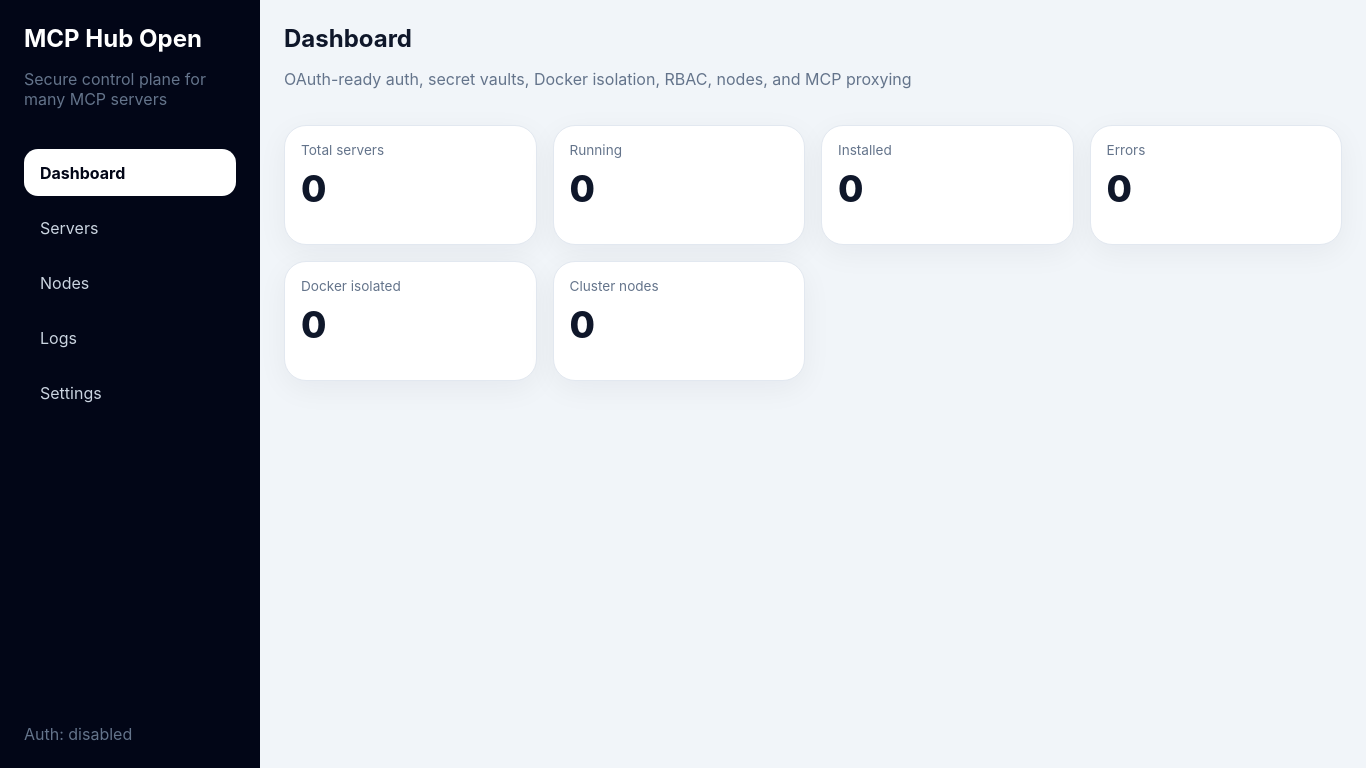
Test case: App component navigation › navigates to Logs page
This screenshot has width=1366, height=768.
Expected: the navigation bar is shown, [24,149,236,417]
Click the link "Logs".
click(58, 338)  # box [40,328,77,348]
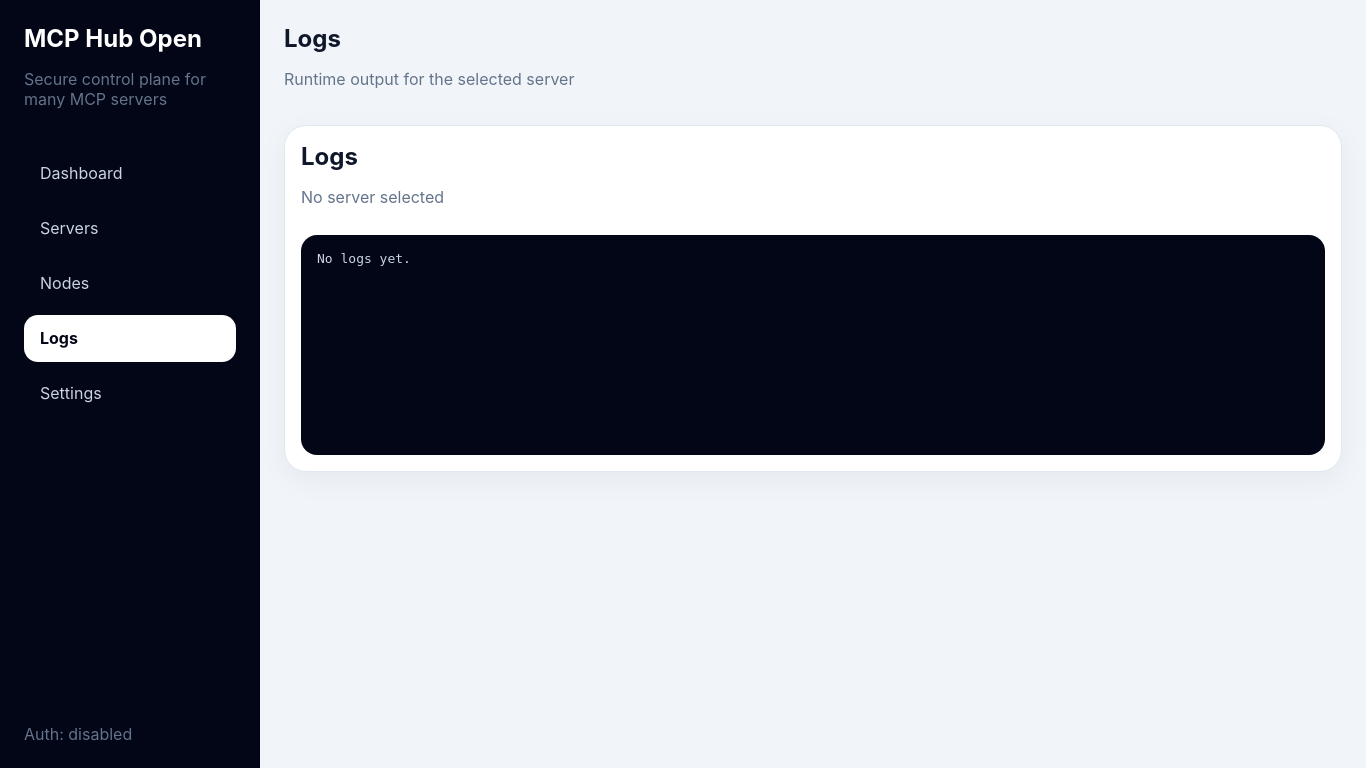
Expected: the 1st heading "Logs" is shown, [284,24,341,53]
